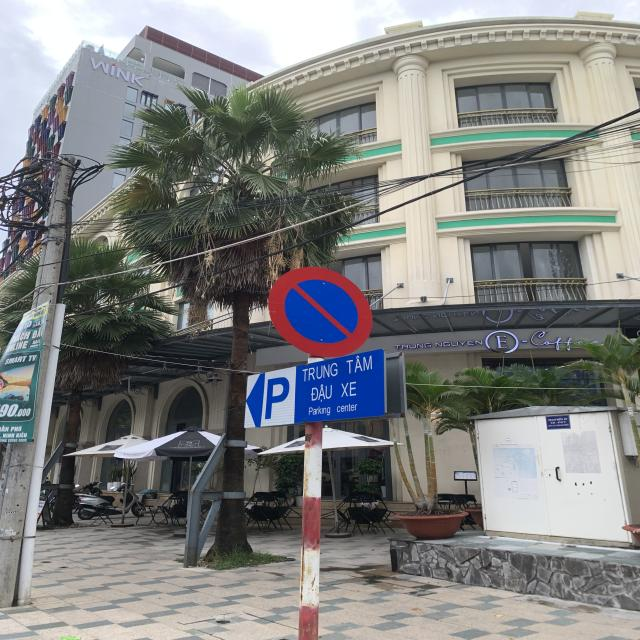Cam_Dau_Xe: (267, 264, 377, 358)
